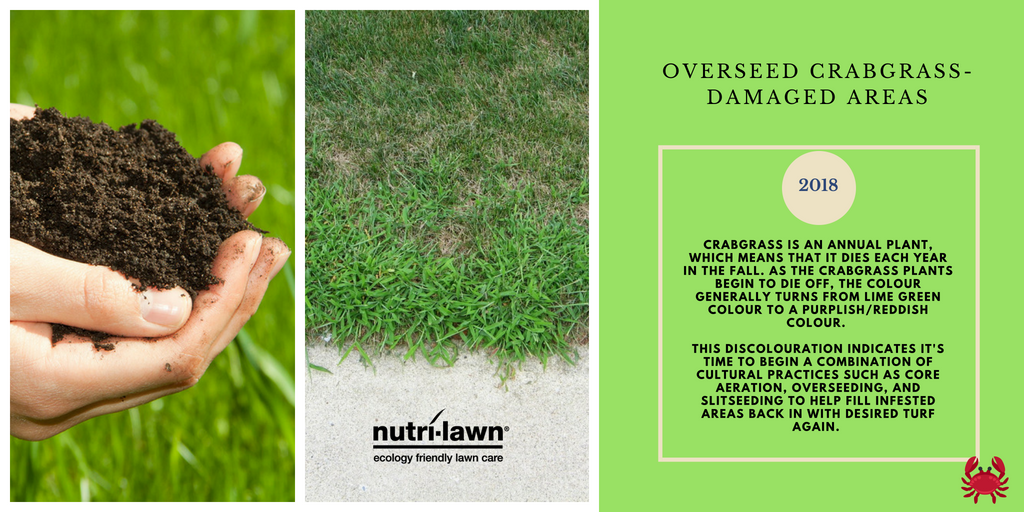crabgrass: (318, 228, 560, 371)
